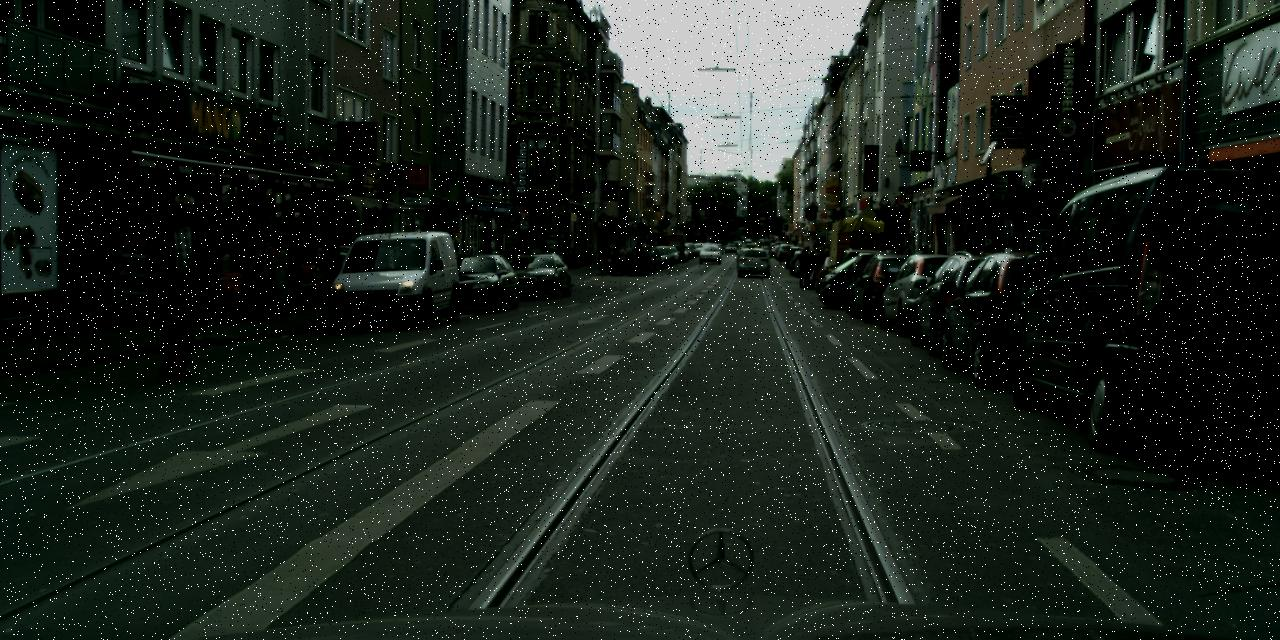ped: (144, 194, 218, 375), (268, 234, 302, 316), (932, 244, 952, 294), (886, 248, 904, 292), (899, 247, 916, 290), (637, 243, 649, 274), (610, 244, 622, 274), (642, 244, 654, 273), (616, 245, 628, 274), (602, 246, 612, 274), (626, 247, 636, 274)
